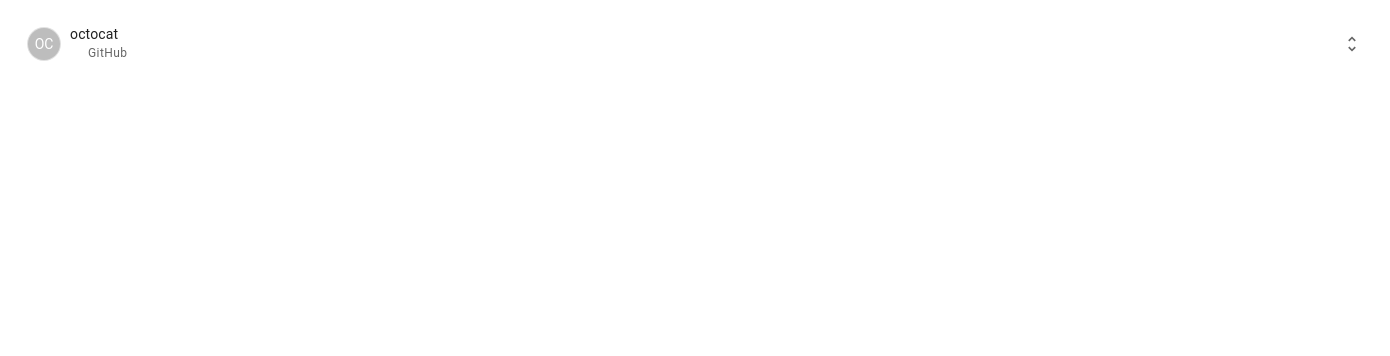
Scenario: Account › without a source URL the version is plain text and Documentation is absent
Click the button "OC octocat GitHub" at (44, 44), box [12,12,1378,76]
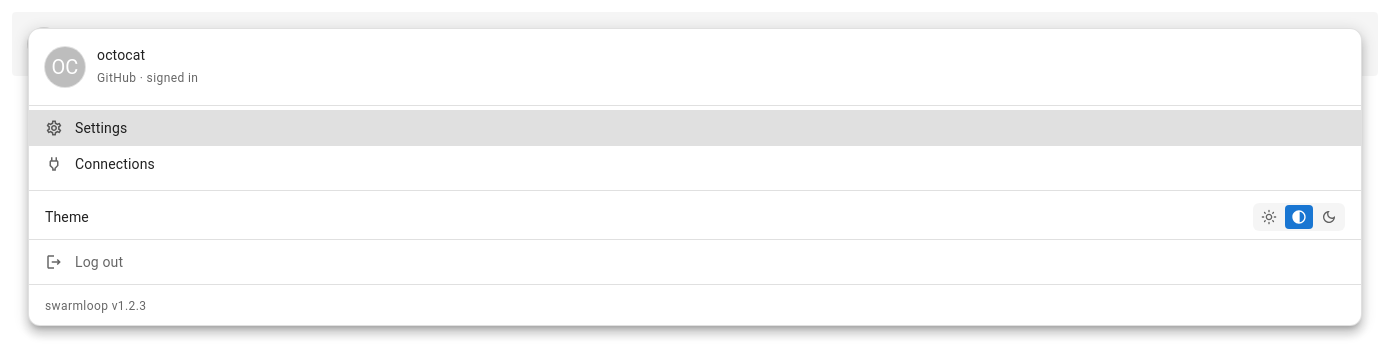
Check: the text "swarmloop v1.2.3" is shown, box [45,299,146,313]
